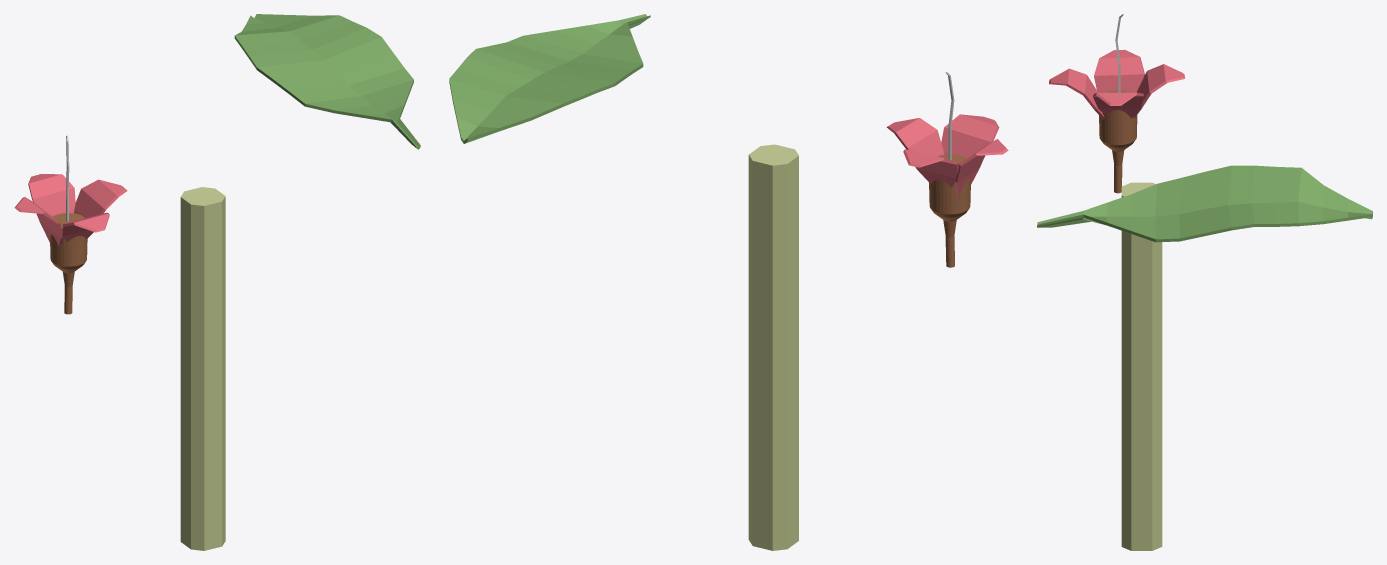
File: mint.fbx
3 renders of one model, left to right at view 1: azimuth 30°, elevation 25°; view 2: azimuth 150°, elevation 25°; view 3: azimuth 270°, elevation 25°, orthographic. The views are drawn at different scales.
Parts seen in each view (by area): view 1: Stem, Leaf, Cube; view 2: Stem, Leaf, Cube; view 3: Leaf, Stem, Cube.
Part boxes in pixels (x1=…): Stem: x1=180, y1=187, x2=225, y2=550; Leaf: x1=234, y1=14, x2=420, y2=149; Cube: x1=14, y1=135, x2=127, y2=314; Stem: x1=748, y1=144, x2=798, y2=550; Leaf: x1=449, y1=14, x2=650, y2=143; Cube: x1=886, y1=72, x2=1008, y2=267; Leaf: x1=1037, y1=165, x2=1372, y2=242; Stem: x1=1121, y1=182, x2=1162, y2=550; Cube: x1=1049, y1=14, x2=1184, y2=193.
Size of the model in its own units: 275 by 280 by 187.
